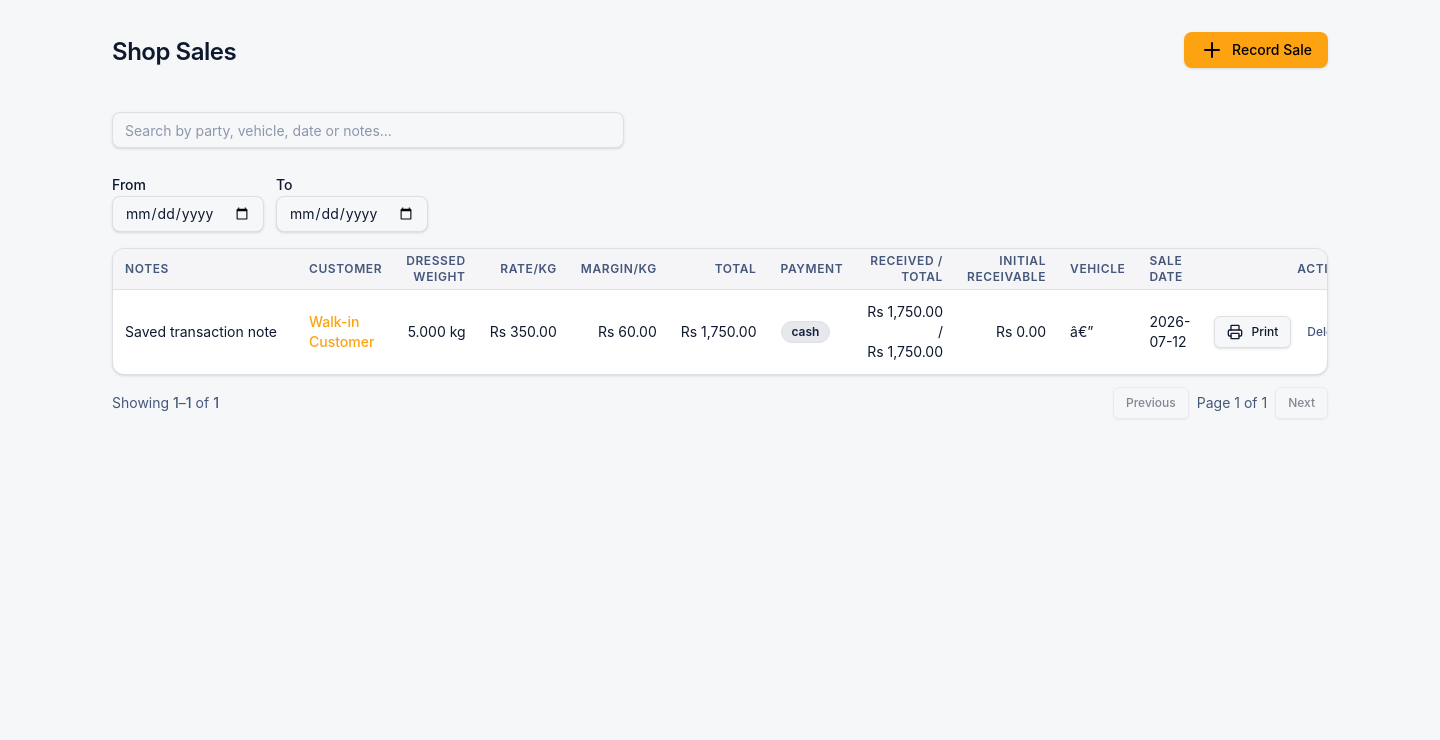
Test: ShopSalesPage › shows insufficient-stock error when dressed quantity exceeds available
Expected: the text "Saved transaction note" is shown, [125, 322, 285, 342]
Click the button "Record Sale" at (1256,50), box [1184, 32, 1328, 68]
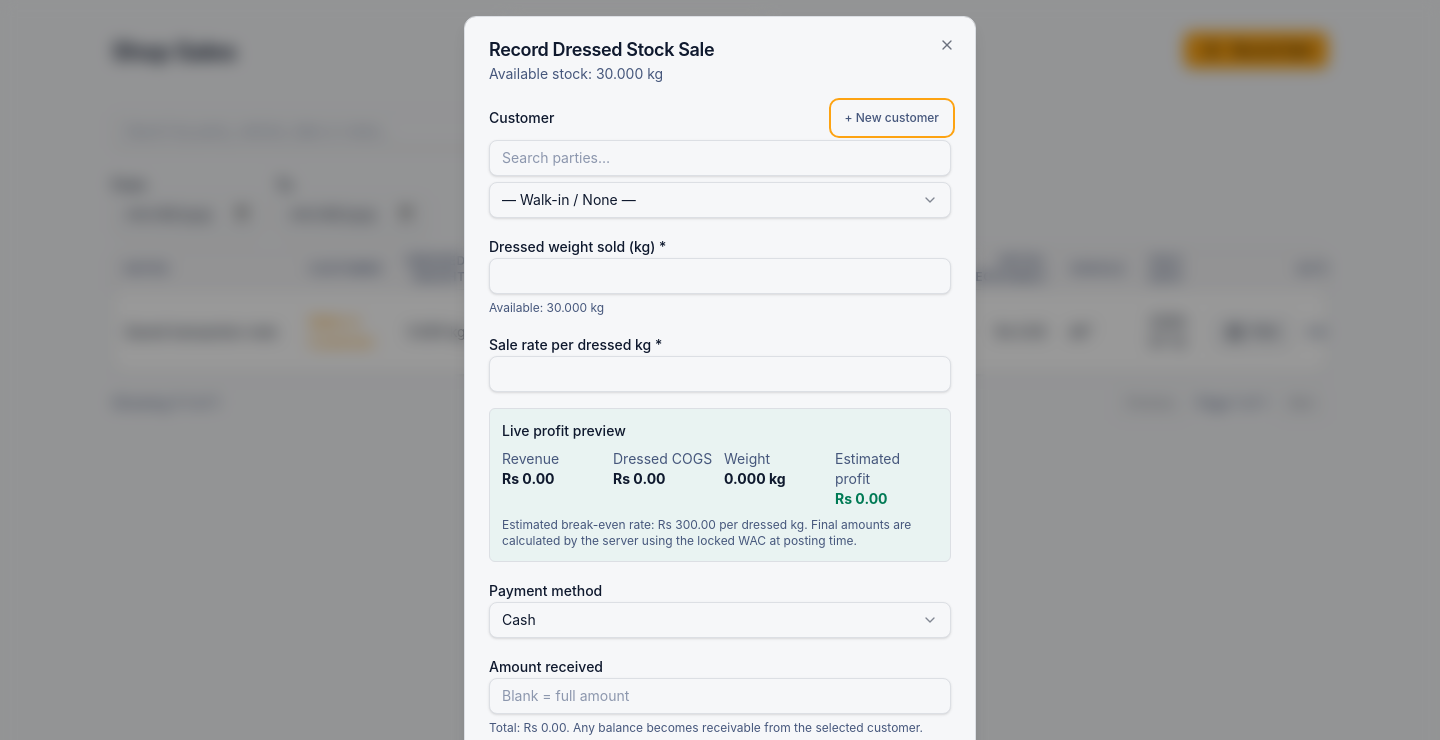
Type "999" into the number field labelled "Dressed weight sold (kg) *" at (720,276), box [489, 258, 951, 294]
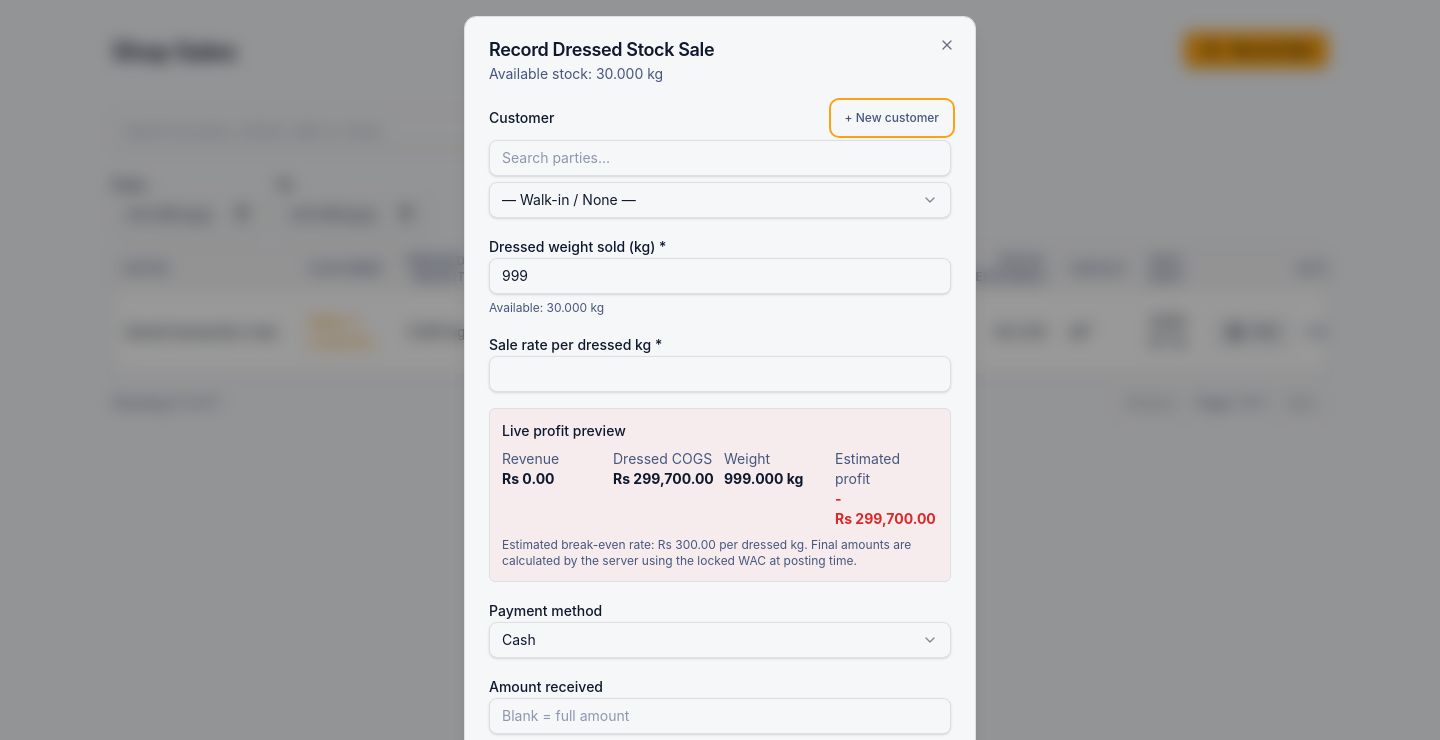
Type "300" into the number field labelled "Sale rate per dressed kg *" at (720,374), box [489, 356, 951, 392]
(page scrolled)
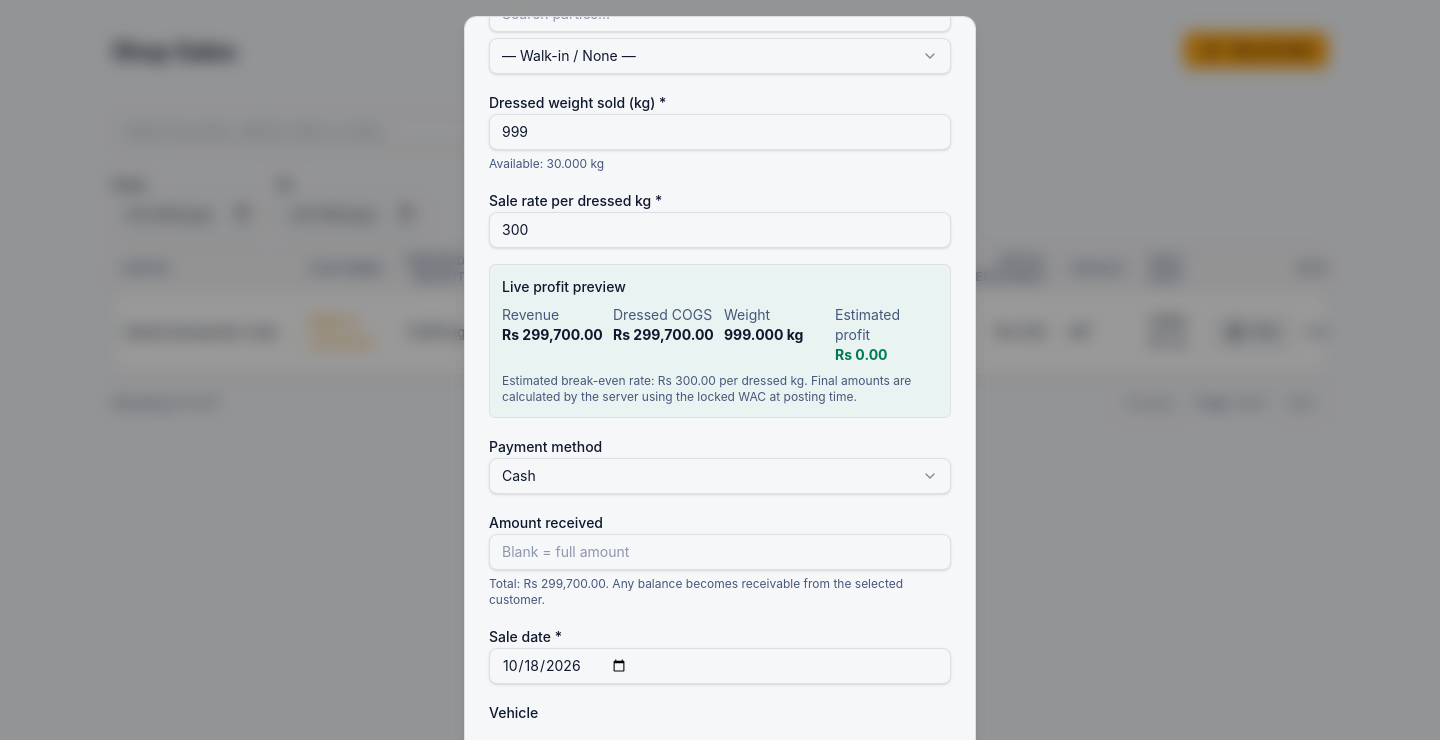
Submit the form labelled "Dressed weight"
(page scrolled)
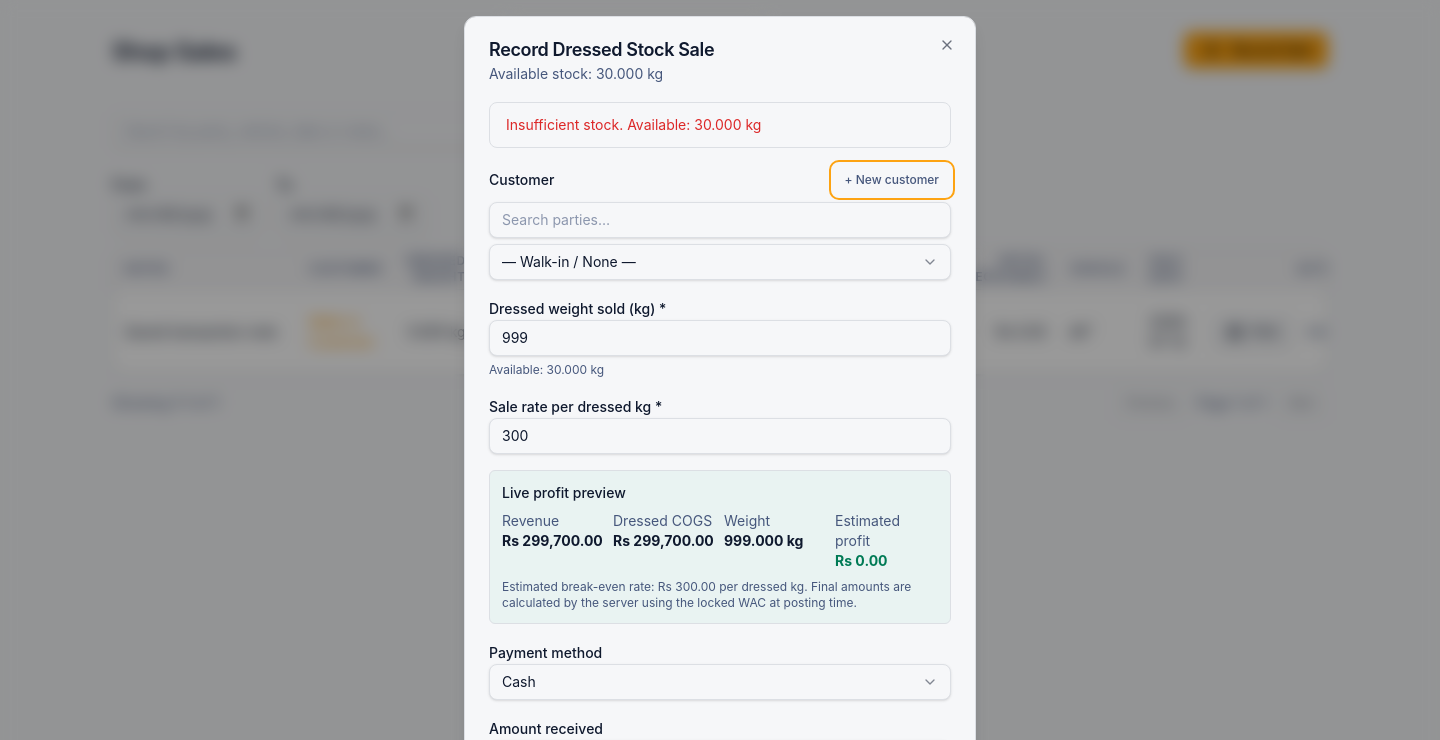
Result: the text "Insufficient stock. Available: 30.000 kg" is shown at [506, 116, 761, 133]
